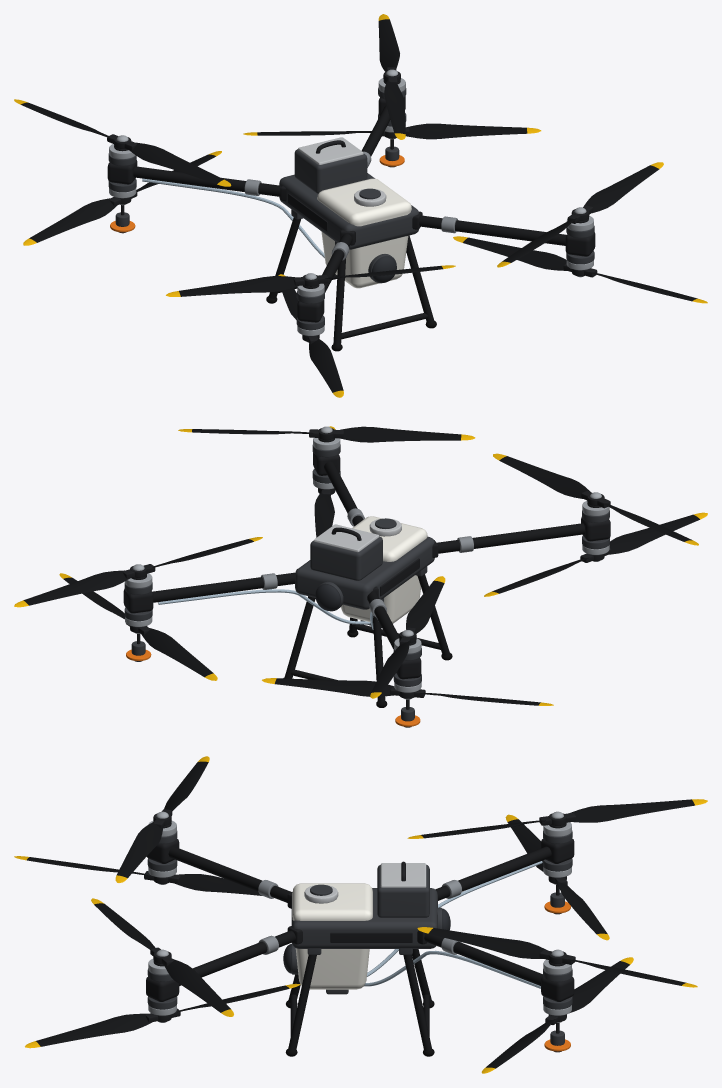
3 renders of one model, top to bottom at view 1: azimuth 30°, elevation 25°; view 2: azimuth 150°, elevation 25°; view 3: azimuth 270°, elevation 25°, orthographic. The views are drawn at different scales.
Parts seen in each view (by area): view 1: tank, body, battery, gear, arm_1, prop_2, arm_3, prop_3, prop_1, prop_8, prop_4, prop_5 (+5 smaller); view 2: body, battery, tank, gear, arm_2, prop_1, arm_4, prop_4, prop_2, prop_7, prop_3, prop_6 (+8 smaller); view 3: tank, body, gear, battery, prop_3, prop_4, arm_4, prop_1, prop_5, prop_2, arm_1, arm_2 (+7 smaller).
Boxes of the visible parts, <box> form: tank: <box>317,178,411,288</box>; body: <box>279,173,418,249</box>; battery: <box>294,137,367,193</box>; gear: <box>266,209,436,351</box>; arm_1: <box>412,211,595,256</box>; prop_2: <box>166,265,455,296</box>; arm_3: <box>107,160,286,201</box>; prop_3: <box>14,99,231,186</box>; prop_1: <box>497,162,663,267</box>; prop_8: <box>243,123,541,139</box>; prop_4: <box>378,14,405,139</box>; prop_5: <box>453,236,707,303</box>; body: <box>295,536,434,609</box>; battery: <box>310,524,382,580</box>; tank: <box>341,516,427,628</box>; gear: <box>283,566,452,707</box>; arm_2: <box>432,517,610,557</box>; prop_1: <box>178,426,475,442</box>; arm_4: <box>123,569,297,613</box>; prop_4: <box>14,537,262,607</box>; prop_2: <box>493,453,698,545</box>; prop_7: <box>262,678,553,705</box>; prop_3: <box>370,576,445,698</box>; prop_6: <box>484,512,707,596</box>; tank: <box>292,883,372,994</box>; body: <box>291,888,437,948</box>; gear: <box>285,948,434,1056</box>; battery: <box>377,861,429,917</box>; prop_3: <box>407,799,707,838</box>; prop_4: <box>417,927,697,987</box>; arm_4: <box>417,930,574,1001</box>; prop_1: <box>91,898,233,1016</box>; prop_5: <box>25,983,300,1048</box>; prop_2: <box>115,756,209,882</box>; arm_1: <box>146,926,302,1001</box>; arm_2: <box>146,839,292,908</box>.
Bounding box in the file's own units: 2.7 × 0.8027 × 3.04.
